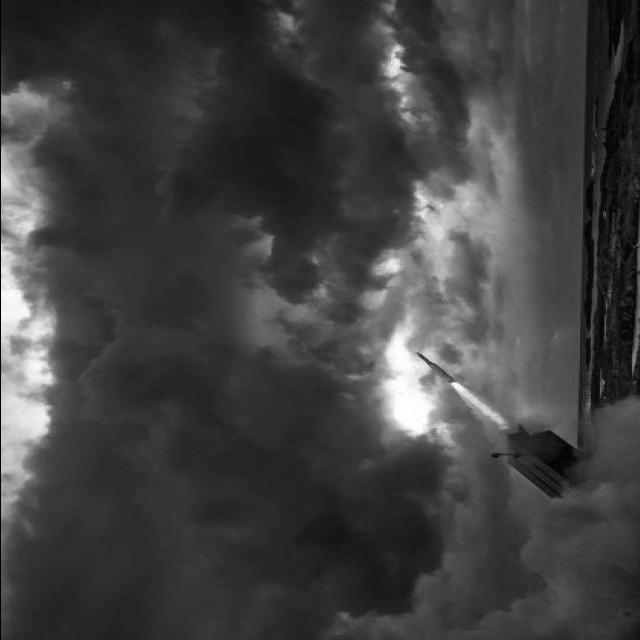missile: (407, 348, 463, 389)
